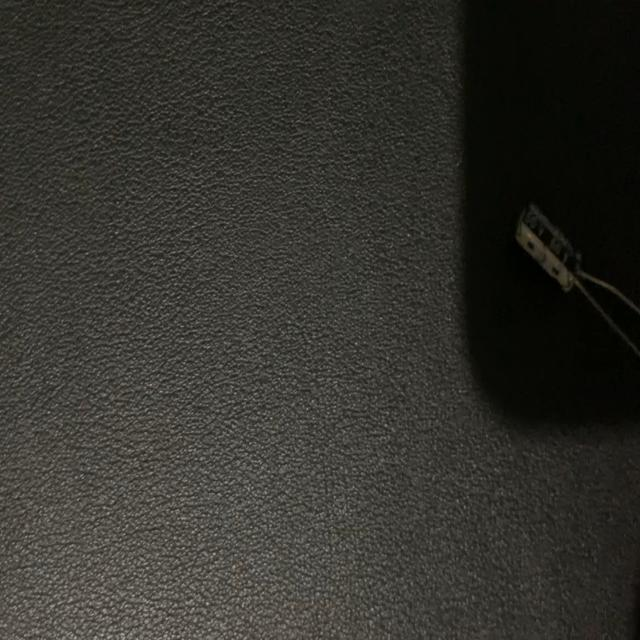capacitor: (512, 193, 640, 372)
